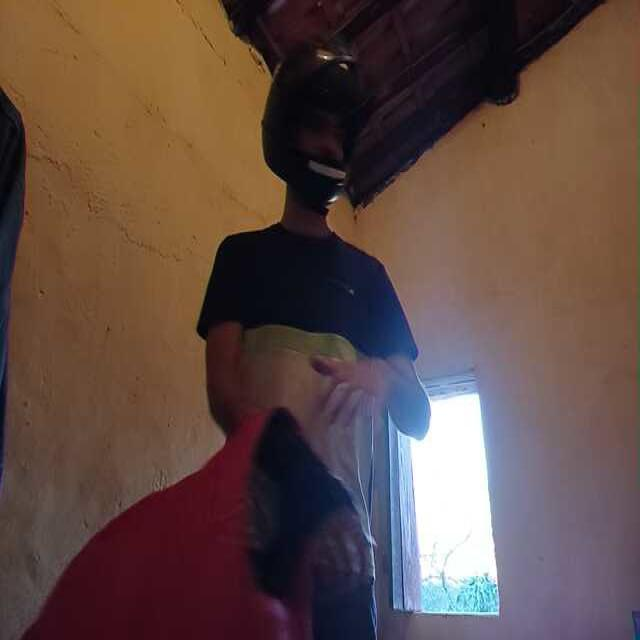capacete: (261, 51, 376, 203)
colete: (64, 422, 289, 640)
pessoa: (226, 103, 429, 640)
